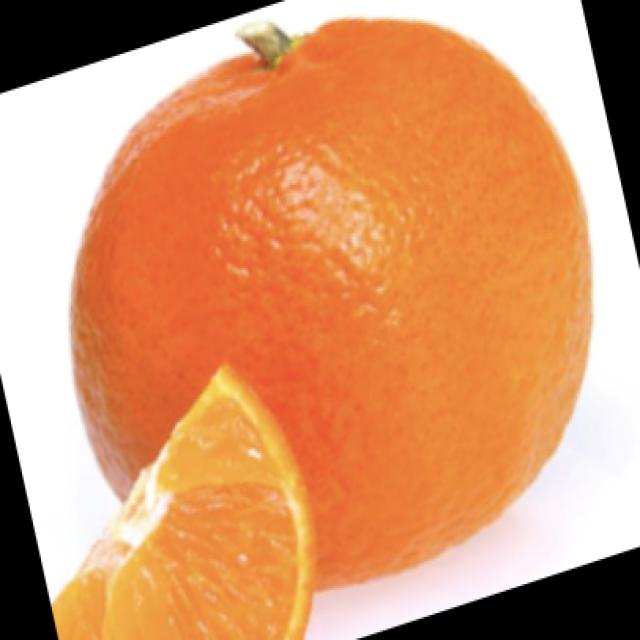matang: (69, 20, 592, 573), (54, 376, 310, 640)
